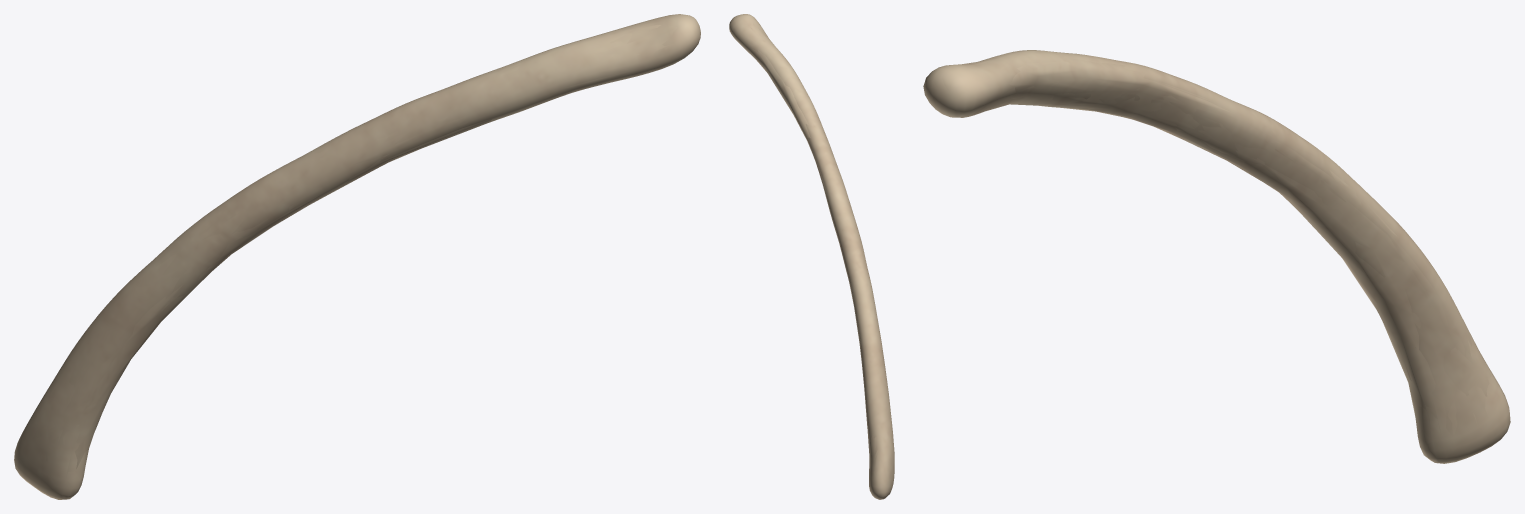
The model's file is Rib R13.fbx.
3 views of the same model, side by side, from view 1: azimuth 30°, elevation 25°; view 2: azimuth 150°, elevation 25°; view 3: azimuth 270°, elevation 25° (orthographic). The views are drawn at different scales.
Visible parts, largest first — view 1: Rib R13 high, Rib R13, Rib R13 low; view 2: Rib R13 high, Rib R13, Rib R13 low; view 3: Rib R13, Rib R13 low, Rib R13 high.
Boxes of the visible parts, x1=… form: Rib R13 high: x1=15, y1=15, x2=700, y2=498; Rib R13: x1=14, y1=14, x2=699, y2=499; Rib R13 low: x1=74, y1=21, x2=660, y2=468; Rib R13 high: x1=731, y1=14, x2=894, y2=498; Rib R13: x1=729, y1=14, x2=894, y2=499; Rib R13 low: x1=746, y1=23, x2=878, y2=467; Rib R13: x1=923, y1=50, x2=1510, y2=463; Rib R13 low: x1=962, y1=58, x2=1491, y2=417; Rib R13 high: x1=924, y1=50, x2=1509, y2=463.
Bounding box in the file's own units: 11.69 × 12.53 × 10.25.
